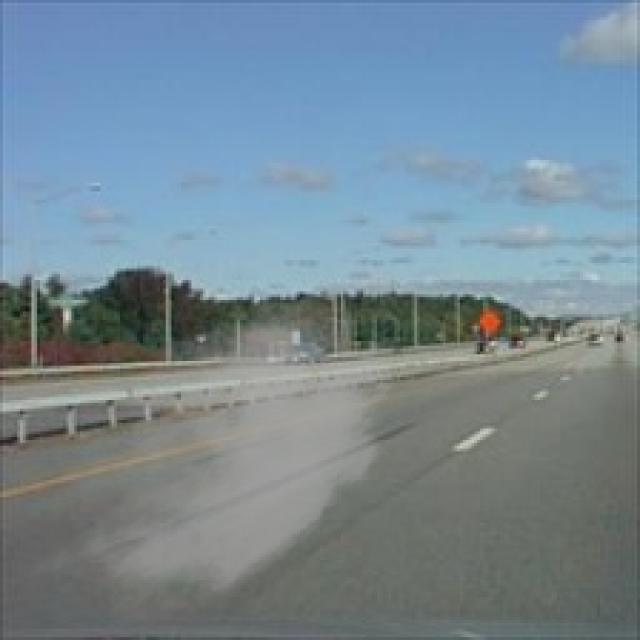smoke: (29, 280, 408, 634)
